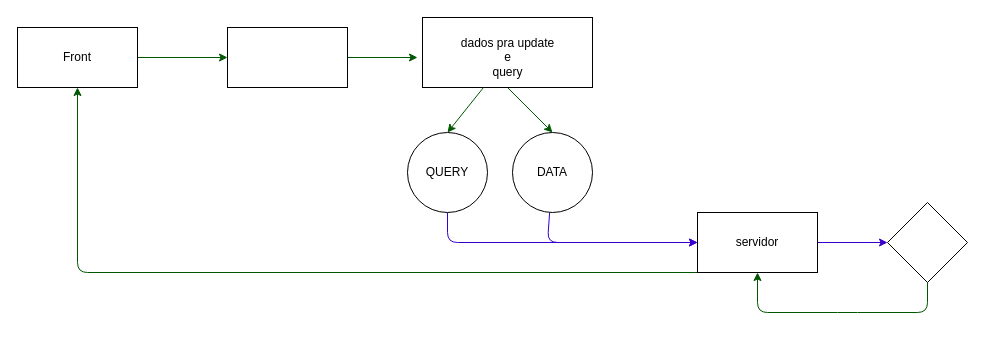
Image size: 985x338. Some labels were removed from this diagram. Each missing label, with the centre of its shape:
"API" belongs at point 287,57.
"DB" belongs at point 927,242.
